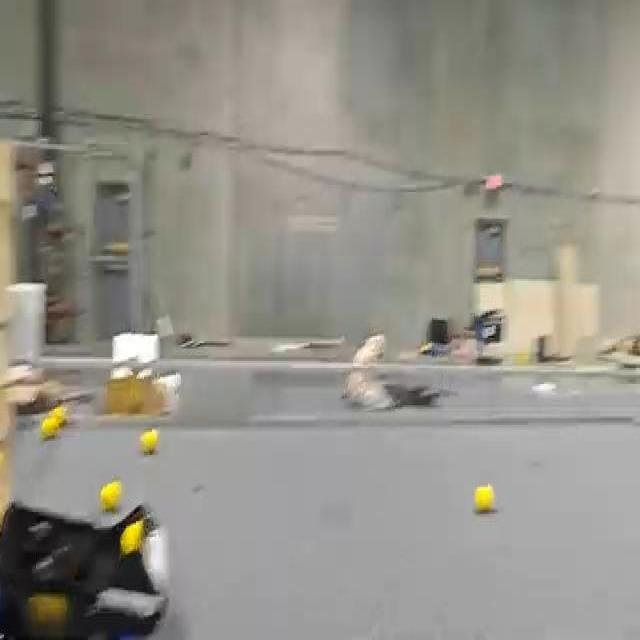Fuel: (120, 521, 144, 556), (100, 480, 122, 512), (99, 480, 121, 510), (474, 485, 494, 514), (139, 428, 158, 454), (140, 428, 158, 454), (41, 414, 58, 438), (40, 416, 59, 437)
